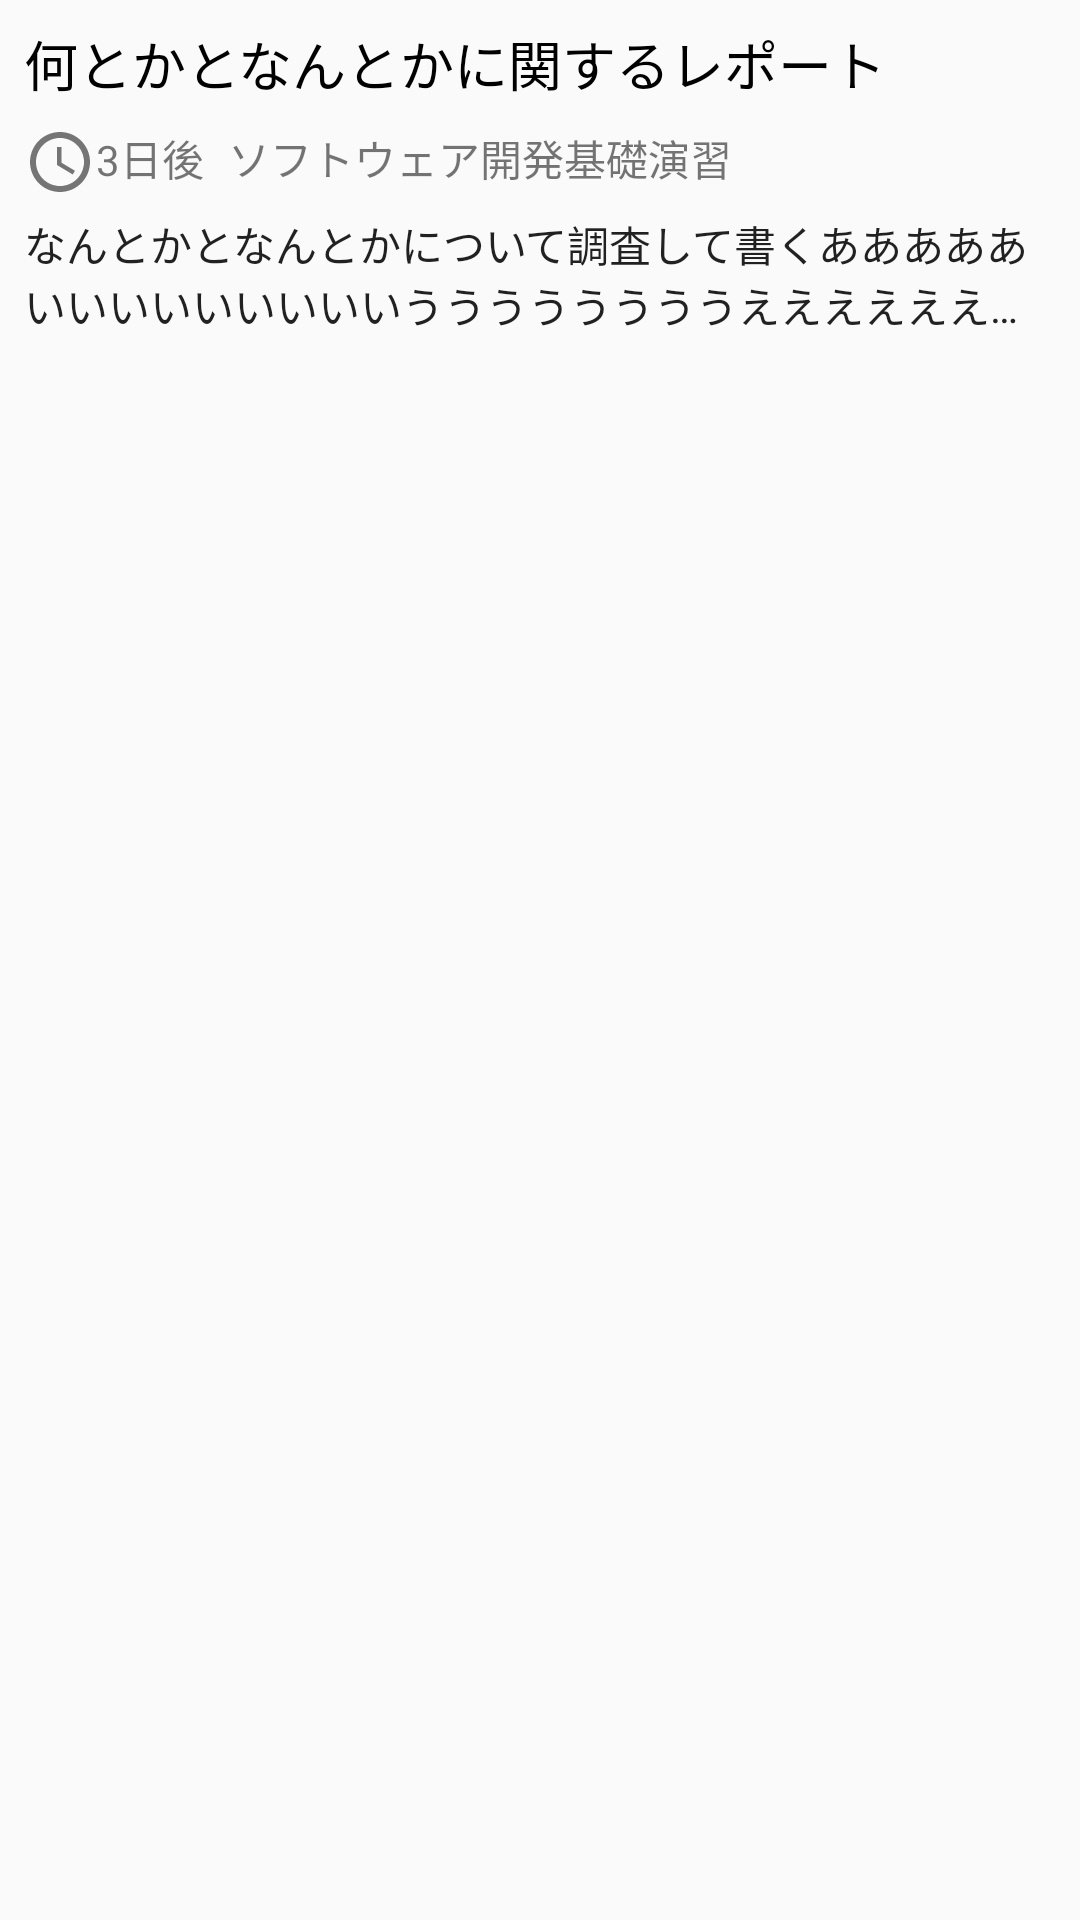

Locate icon controls on the screen. Image size 1080 x 1920, boxes as {"left": x1, "top": y1, "right": x2, "bottom": y2}.
access time: {"left": 30, "top": 132, "right": 90, "bottom": 192}
